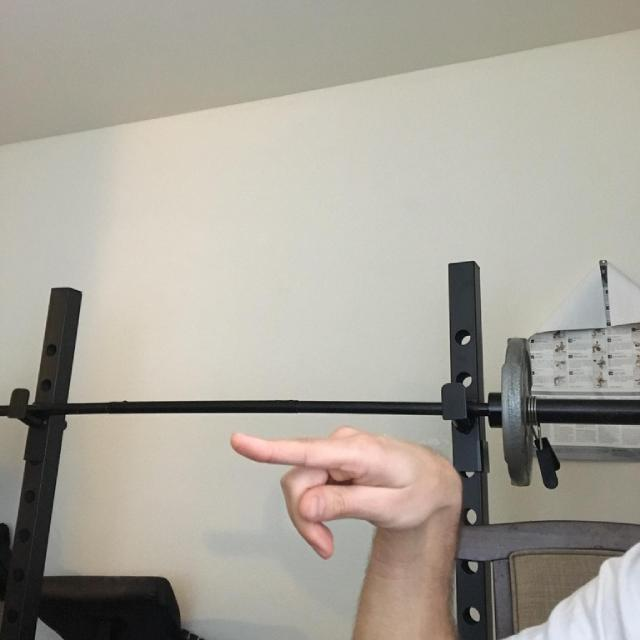P: (202, 399, 503, 604)
